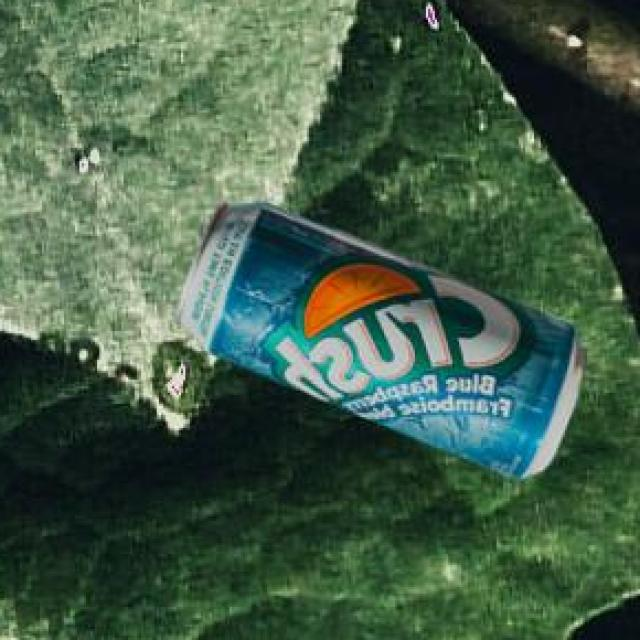logam: (173, 206, 584, 482)
